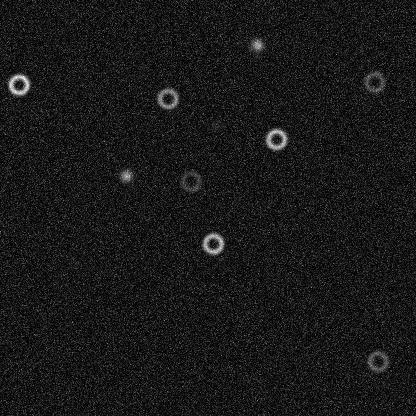Ring: (365, 349, 389, 373), (6, 72, 30, 96), (155, 86, 179, 110), (200, 231, 224, 255), (264, 127, 288, 151), (362, 69, 386, 93), (179, 169, 203, 193)
Spot: (118, 167, 134, 183), (209, 116, 225, 132), (249, 36, 265, 52)
